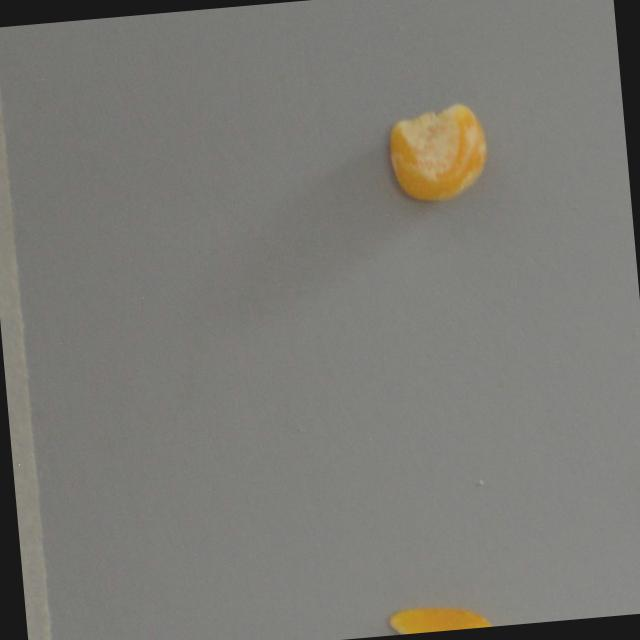no_canjicado: (363, 602, 495, 637)
pelicula: (384, 101, 492, 206)
